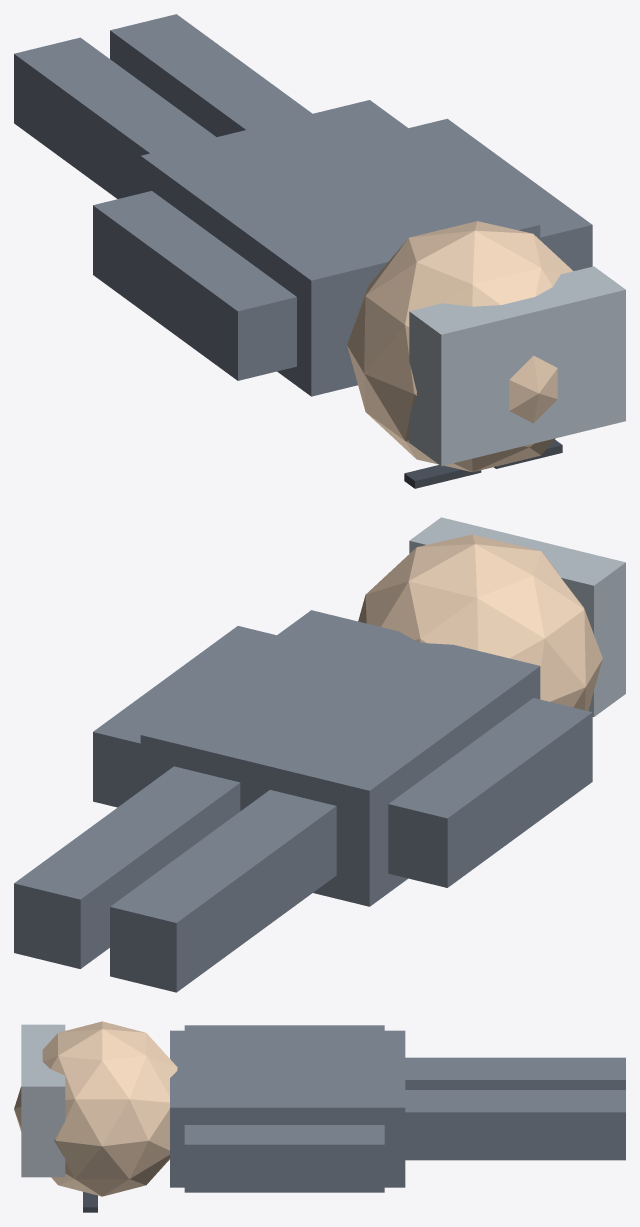
The model's file is cfo_variant_5.glb.
3 renders of one model, top to bottom at view 1: azimuth 30°, elevation 25°; view 2: azimuth 150°, elevation 25°; view 3: azimuth 270°, elevation 25°, orthographic. The views are drawn at different scales.
Parts seen in each view (by area): view 1: torso_2, hair_6, head_5, arm_l_3, leg_l_0, leg_r_1, arm_r_4, glasses_l_7; view 2: torso_2, leg_l_0, head_5, arm_l_3, leg_r_1, arm_r_4, hair_6; view 3: torso_2, head_5, leg_r_1, arm_r_4, leg_l_0, hair_6, arm_l_3, glasses_r_8.
Boxes of the visible parts, x1,y1,x2,y2 form: torso_2: (140,100,540,396); hair_6: (409,266,625,466); head_5: (347,221,573,472); arm_l_3: (93,191,296,380); leg_l_0: (14,37,216,198); leg_r_1: (110,14,312,136); arm_r_4: (409,118,592,270); glasses_l_7: (404,465,481,488); torso_2: (140,610,540,906); leg_l_0: (110,790,336,992); head_5: (358,534,602,710); arm_l_3: (388,698,592,887); leg_r_1: (14,766,240,968); arm_r_4: (93,626,276,807); hair_6: (409,517,625,716); torso_2: (170,1030,405,1187); head_5: (14,1021,177,1196); leg_r_1: (405,1090,625,1160); arm_r_4: (184,1125,384,1192); leg_l_0: (405,1057,625,1089); hair_6: (21,1024,65,1177); arm_l_3: (184,1025,384,1030); glasses_r_8: (83,1192,97,1212).
Size of the model in its own units: 0.96 by 0.6 by 2.08.
